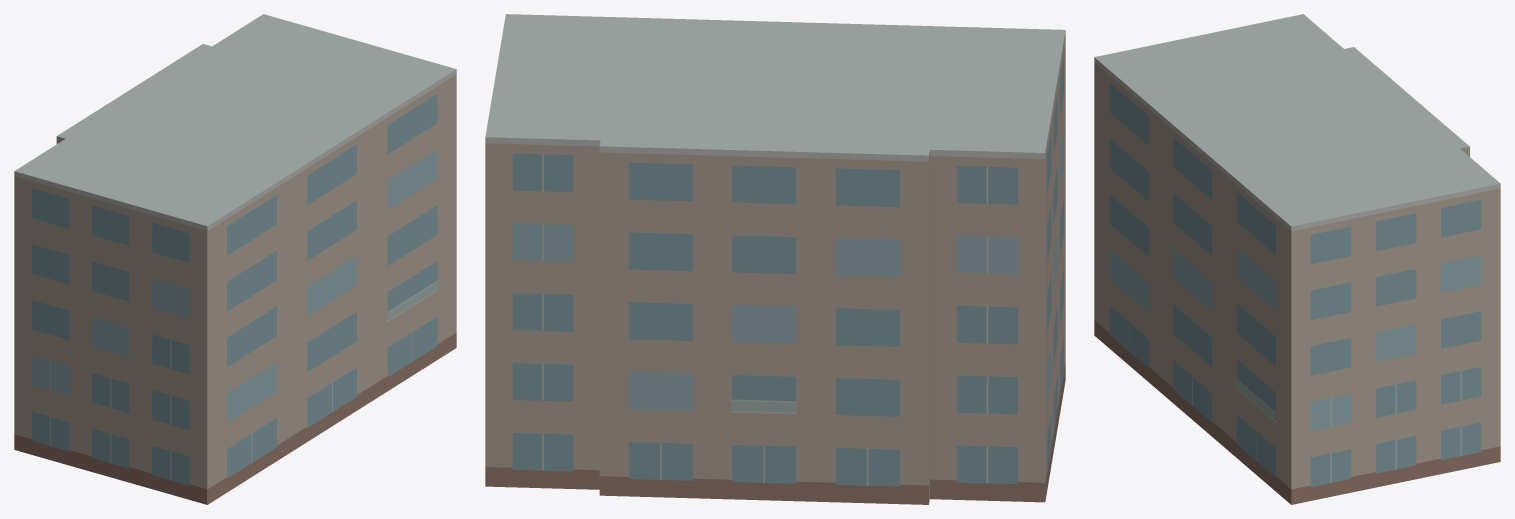
Rendered from survey-upis-32653901.glb.
The picture shows the model from 3 angles, left to right: view 1: azimuth 30°, elevation 25°; view 2: azimuth 150°, elevation 25°; view 3: azimuth 270°, elevation 25°; orthographic projection. The views are drawn at different scales.
Visible parts, largest first — view 1: survey-upis-32653901.tmp; view 2: survey-upis-32653901.tmp; view 3: survey-upis-32653901.tmp.
Boxes of the visible parts, bbox=[...] form: survey-upis-32653901.tmp: bbox=[14, 14, 456, 504]; survey-upis-32653901.tmp: bbox=[485, 14, 1065, 504]; survey-upis-32653901.tmp: bbox=[1094, 14, 1500, 504].
Size of the model in its own units: 22.95 by 14 by 18.54.
